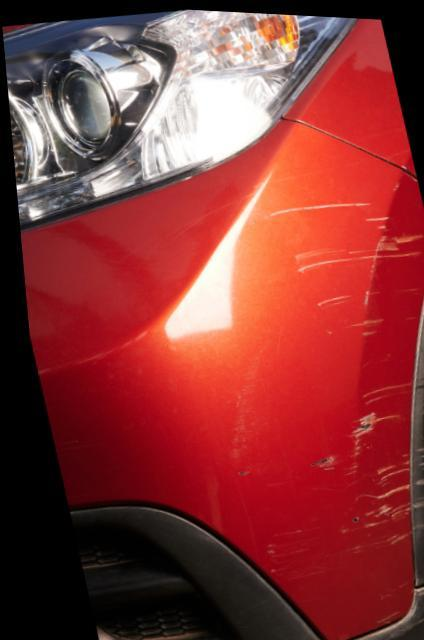scratch: (258, 188, 417, 578), (402, 282, 424, 540)
